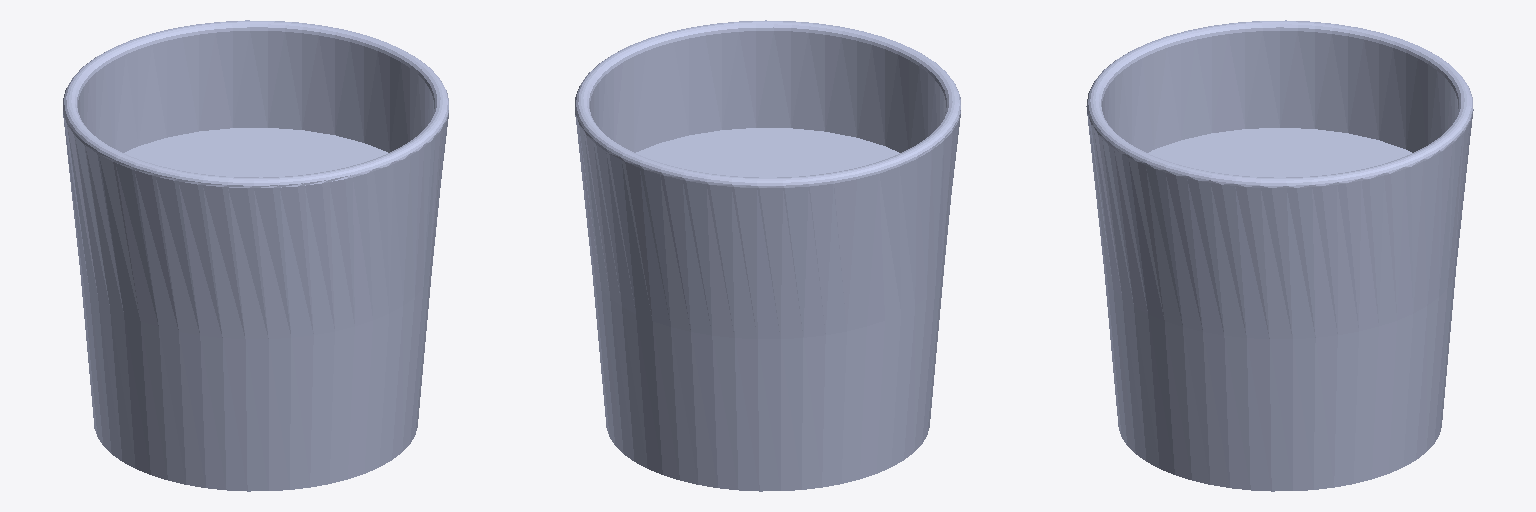
URDF robot description (Part1.SLDPRT):
<?xml version="1.0" encoding="utf-8"?>
<!-- This URDF was automatically created by SolidWorks to URDF Exporter! Originally created by [author] ([email redacted]) 
     Commit Version: 1.5.1-0-g916b5db  Build Version: 1.5.7152.31018
     For more information, please see http://wiki.ros.org/sw_urdf_exporter -->
<robot
  name="Part1.SLDPRT">
  <link
    name="backet_cup">
    <inertial>
      <origin
        xyz="-4.2204E-08 -1.21119999997418E-07 0.042168"
        rpy="0 0 0" />
      <mass
        value="0.70346" />
      <inertia
        ixx="0.0009664"
        ixy="-2.3822E-09"
        ixz="-9.2534E-10"
        iyy="0.00096637"
        iyz="2.65570000000618E-09"
        izz="0.0010673" />
    </inertial>
    <visual>
      <origin
        xyz="0 0 0"
        rpy="1.5707963267949 0 0" />
      <geometry>
        <mesh
          filename="package://backet_cup/meshes/backet_cup.STL" />
      </geometry>
      <material
        name="">
        <color
          rgba="0.79216 0.81961 0.93333 1" />
        <texture
          filename="package://backet_cup/textures/" />
      </material>
    </visual>
    <collision>
      <origin
        xyz="0 0 0"
        rpy="1.5707963267949 0 0" />
      <geometry>
        <mesh
          filename="package://backet_cup/meshes/backet_cup.STL" />
      </geometry>
    </collision>
  </link>
</robot>

--- Render facts (derived) ---
Views: 3 orthographic renders of the robot side by side, from view 1: azimuth 30°, elevation 25°; view 2: azimuth 150°, elevation 25°; view 3: azimuth 270°, elevation 25°.
Robot: Part1.SLDPRT — 1 links, 0 joints (none); root link backet_cup; default pose: all joints at 0.
Visible links, largest first — view 1: backet_cup; view 2: backet_cup; view 3: backet_cup.
Link boxes in pixels (<box>): backet_cup: <box>63,20,448,491</box>; backet_cup: <box>575,20,960,491</box>; backet_cup: <box>1086,20,1473,491</box>.
Bounding box of the posed robot: 0.1194 × 0.1195 × 0.11 m (x, y, z).
Meshes: 1 distinct files referenced, 1 mesh visuals loaded (1 binary STL).